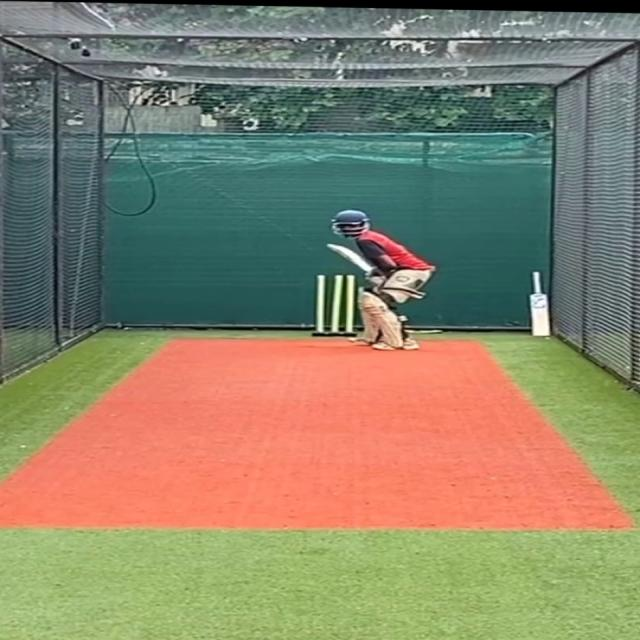stump: (305, 271, 358, 339)
